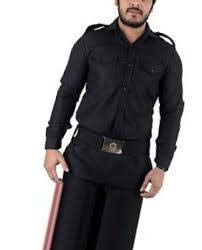uniform: (28, 19, 192, 247)
